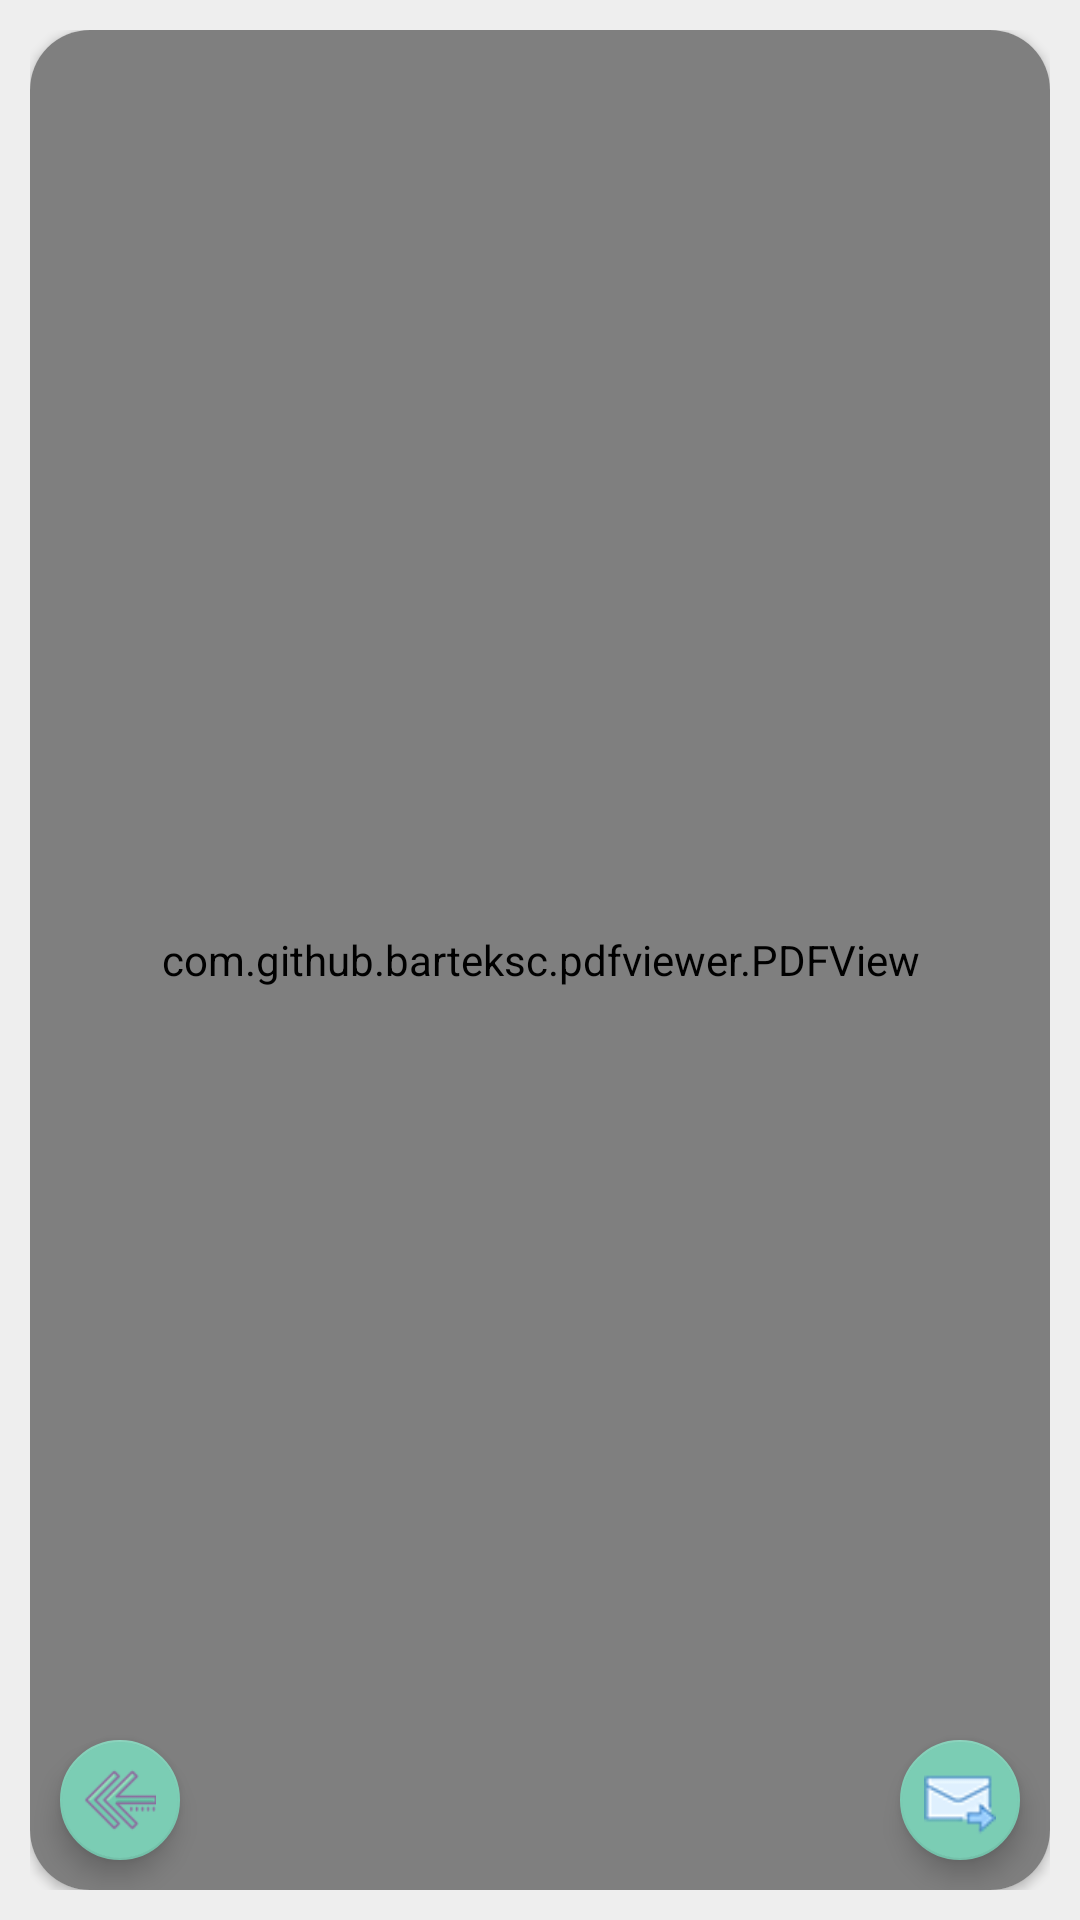

Icon click points for this 1080px x 1920px phone screenshot, format [x,y]:
back: [120,1800]
send: [960,1800]
